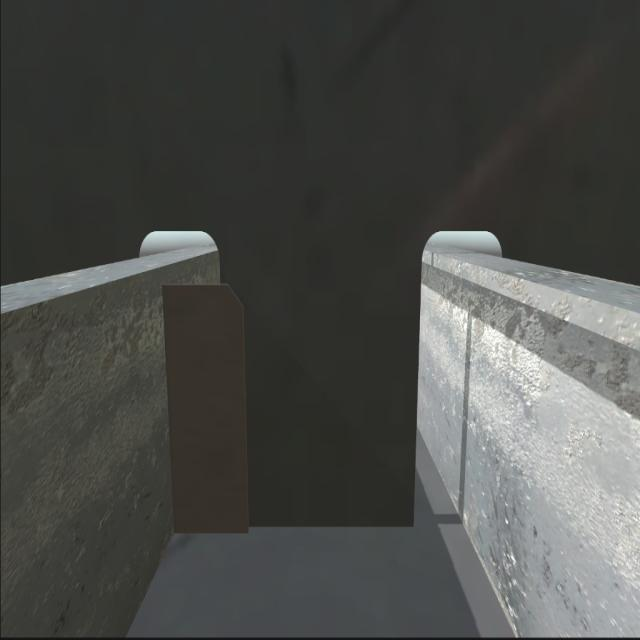fillet_yong_jeop_jang: (173, 510, 418, 546)
longi_yong_jeop_jang: (160, 278, 181, 534)
plate_CP03: (162, 286, 250, 534)
